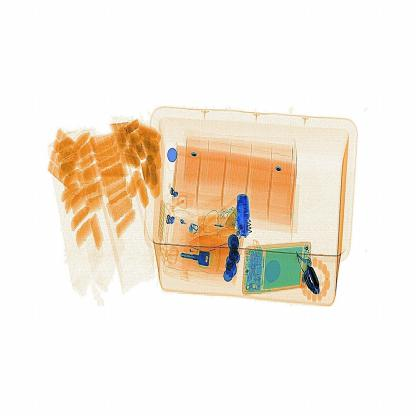scissors: (232, 182, 260, 238)
